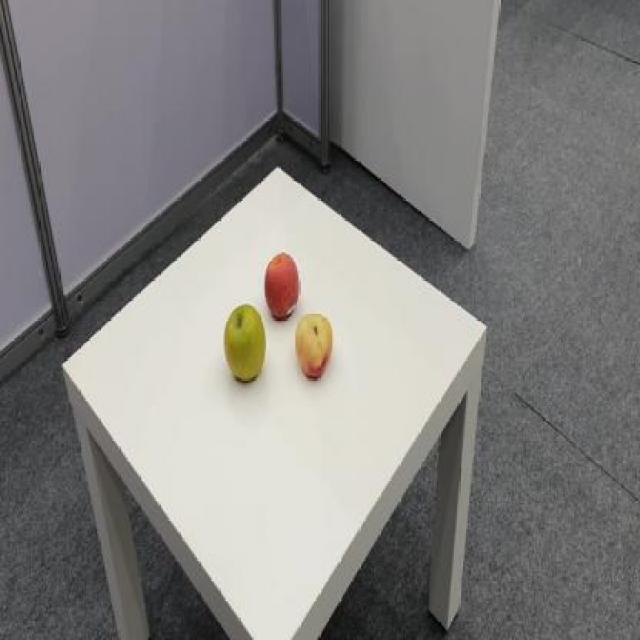Fresh Apple: (214, 309, 266, 383), (287, 316, 340, 381), (256, 254, 304, 324)
